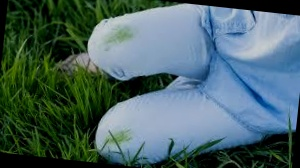earth: (105, 28, 136, 44), (108, 129, 130, 145)
